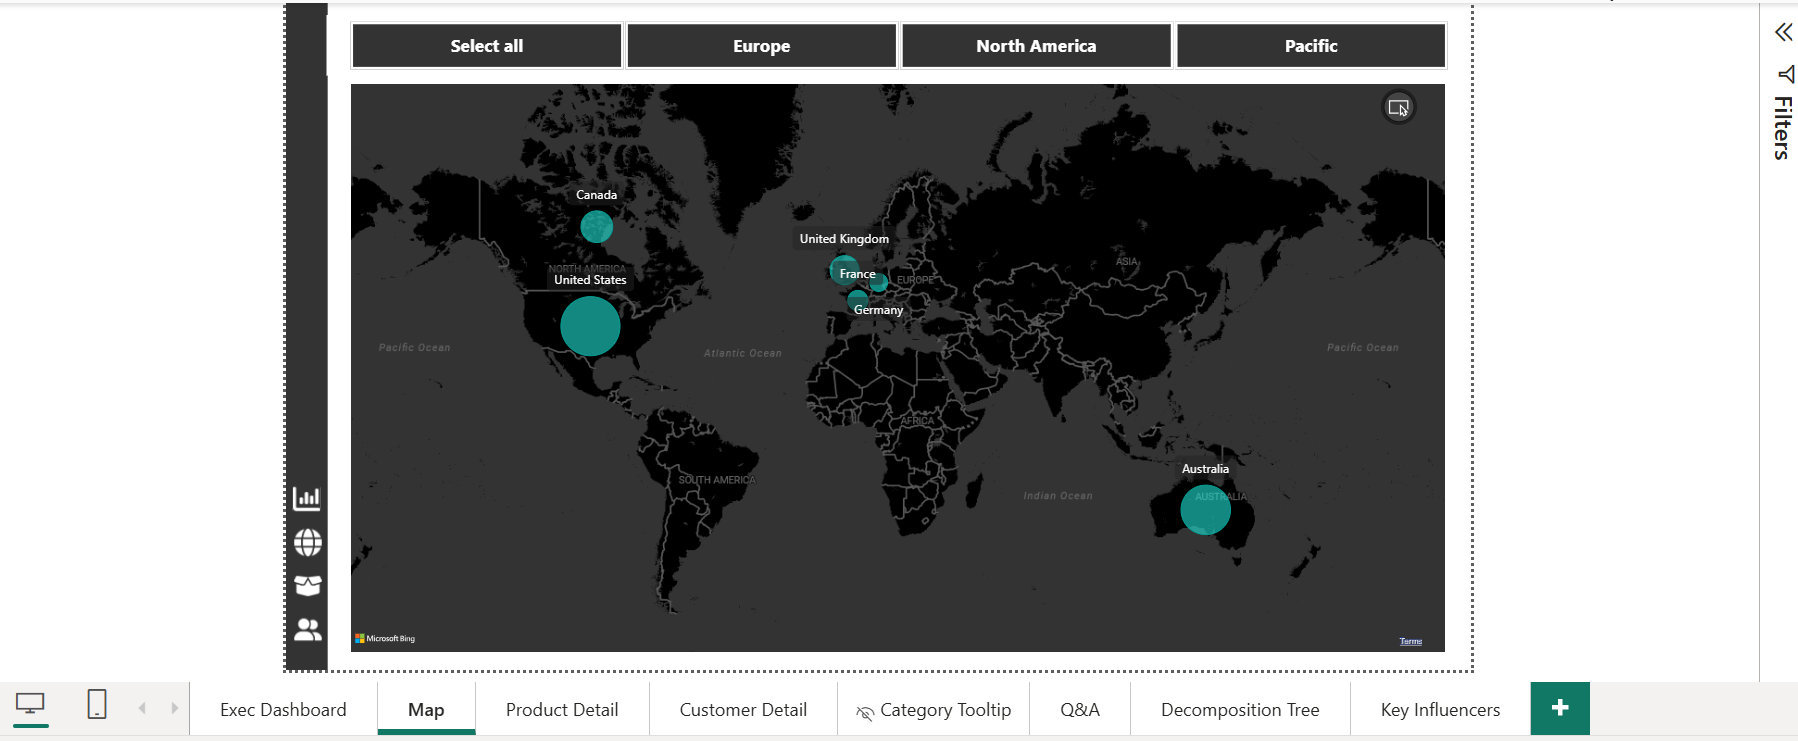

Layout of this report page (visuals, bound fields, positions):
{"tool":"powerbi","page":{"name":"Map","canvas":[1280,720],"ordinal":1},"visuals":[{"type":"shape","box":[0,0,45,720],"z":0},{"type":"actionButton","box":[2.5,516.7,45.6,37.8],"z":0,"group":"g1"},{"type":"actionButton","box":[3.3,563.4,45.6,37.8],"z":1000,"group":"g1"},{"type":"map","fields":{"Category":["Territory Lookup.Country"],"Size":["Measure Table.Total Orders"]},"box":[65.6,82.5,1191.3,622.8],"z":1000},{"type":"slicer","fields":{"Values":["Territory Lookup.Continent"]},"box":[43,13.6,1234.3,65.6],"z":2000},{"type":"actionButton","box":[3.3,611.1,45.6,37.8],"z":2000,"group":"g1"},{"type":"actionButton","box":[3.3,657.8,45.6,37.8],"z":3000,"group":"g1"},{"type":"group","id":"g1","title":"Navigation Buttons","box":[2.5,516.7,46.4,178.9],"z":3000}]}

Visuals, with their boxes on the page's 1280x720 design canvas (x1, y1, x2, y2). These are canvas units, not pixel positions in the 1798x741 screenshot, which may show the page scaled, cropped or inside an application window:
shape: (x1=0, y1=0, x2=45, y2=720)
actionButton: (x1=2, y1=517, x2=48, y2=554)
actionButton: (x1=3, y1=563, x2=49, y2=601)
map - Territory Lookup.Country x Measure Table.Total Orders: (x1=66, y1=82, x2=1257, y2=705)
slicer - Territory Lookup.Continent: (x1=43, y1=14, x2=1277, y2=79)
actionButton: (x1=3, y1=611, x2=49, y2=649)
actionButton: (x1=3, y1=658, x2=49, y2=696)
"Navigation Buttons" group: (x1=2, y1=517, x2=49, y2=696)
